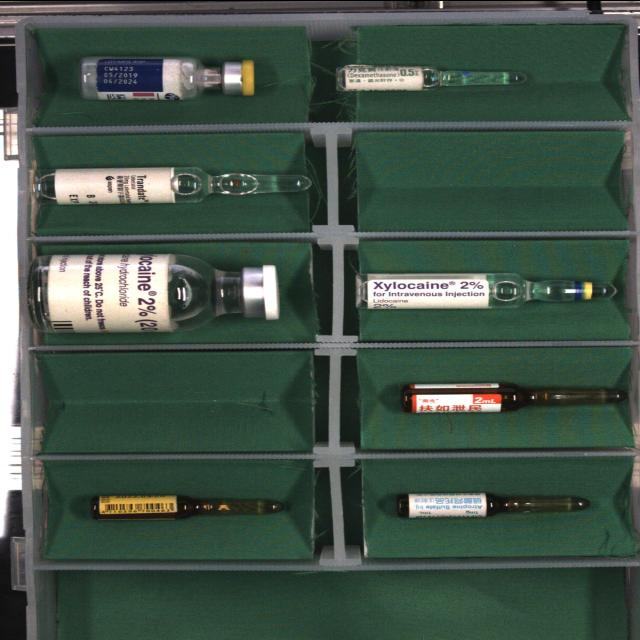Vials: (28, 252, 279, 332), (81, 56, 255, 99)
